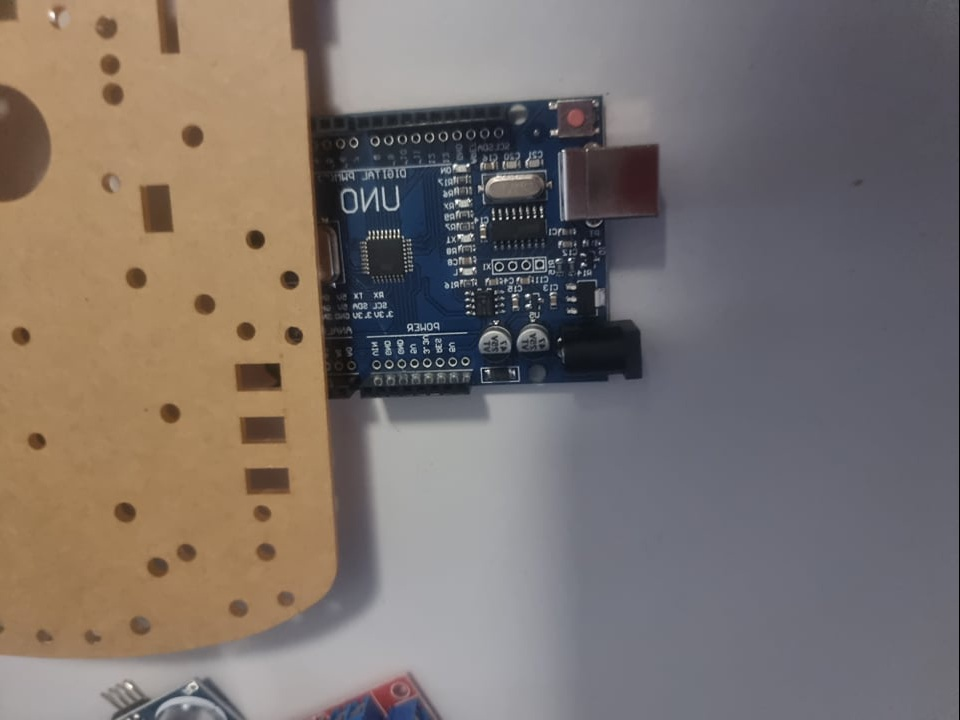UNO R3: (317, 83, 662, 408)
